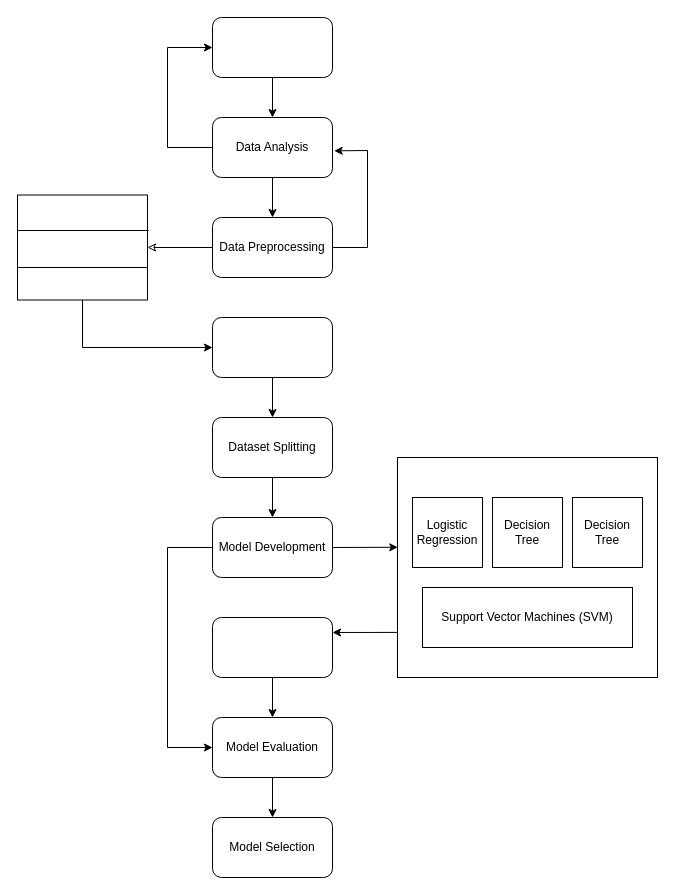
This 675x895 diagram has some shape labels left out. Here are the shapes that lost their labels. From the top down, the box of each, then its label:
(212, 16, 332, 78): Data Cleaning
(16, 194, 148, 300): Analyze trends Handling missing values Class distribution
(212, 316, 332, 378): Feature Selection
(396, 456, 658, 678): Predictive Models
(212, 616, 332, 678): Model Ensemble
